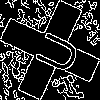U: (25, 25, 82, 77)
